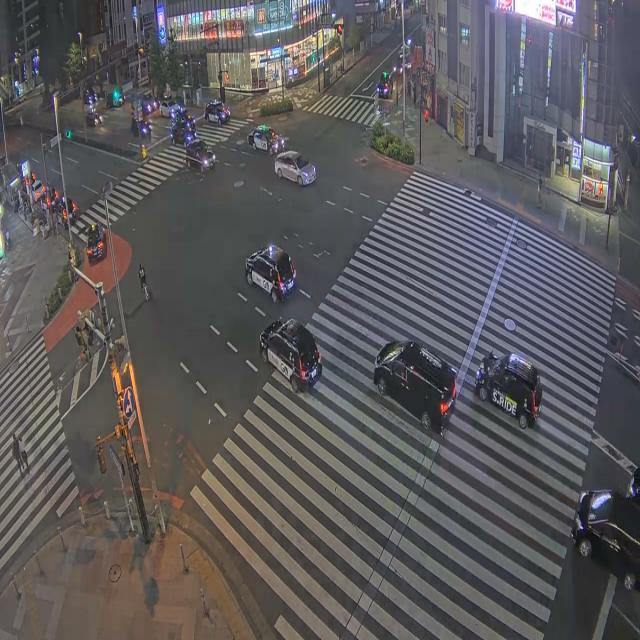car: (374, 341, 456, 433), (571, 491, 639, 590), (475, 353, 542, 429), (260, 319, 321, 392), (245, 246, 296, 302), (275, 152, 316, 185), (248, 125, 284, 154), (185, 140, 215, 170), (86, 224, 106, 263), (56, 195, 77, 226), (204, 100, 230, 124), (171, 121, 195, 144), (394, 45, 412, 74), (171, 105, 194, 124), (627, 469, 639, 504), (160, 100, 181, 119), (377, 72, 392, 98), (47, 181, 59, 207), (106, 91, 124, 108), (32, 180, 45, 201), (143, 97, 159, 114), (83, 87, 97, 105), (86, 112, 102, 127), (138, 118, 151, 136)
